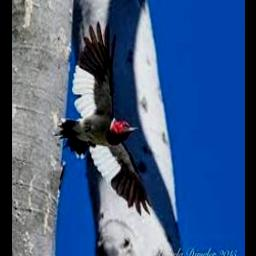Woodpecker: (52, 22, 151, 216)
